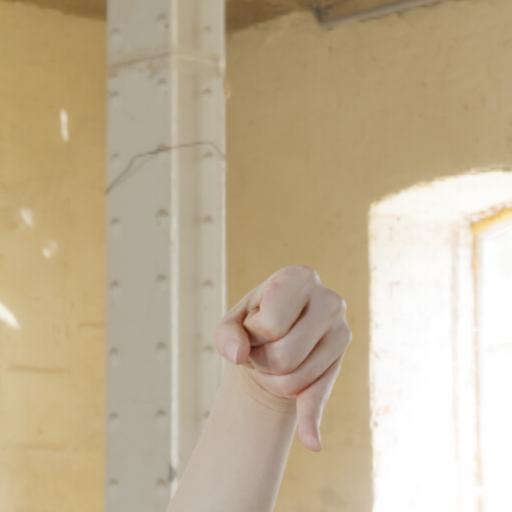J: (205, 261, 360, 453)
